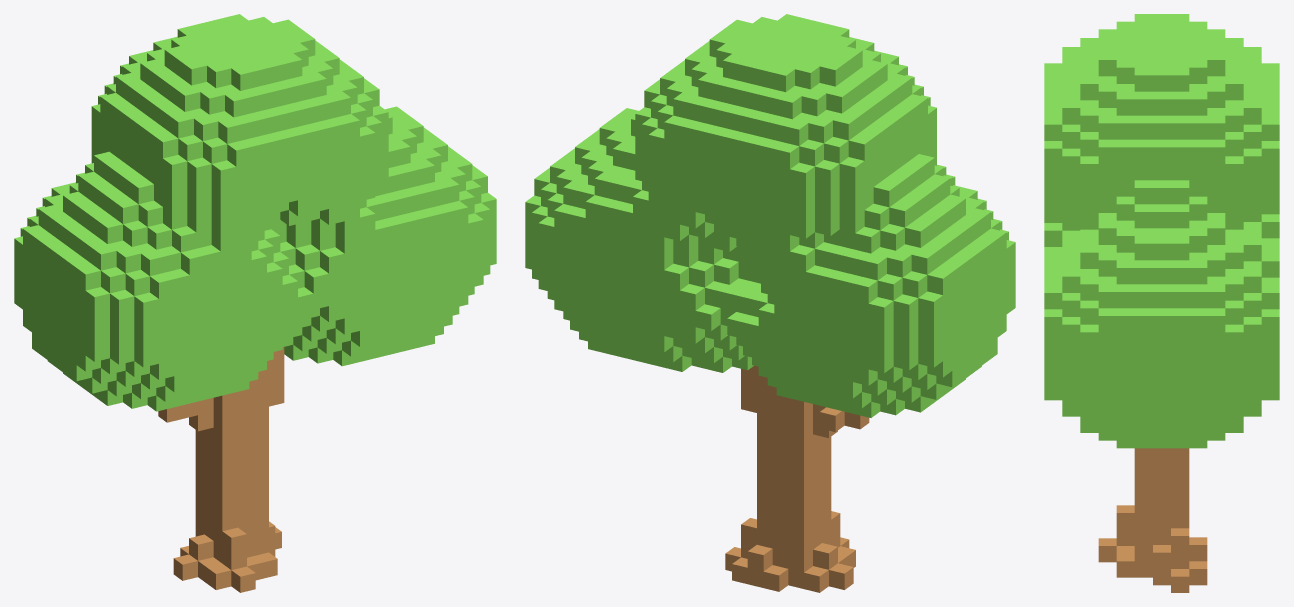
Rendered from Tree_2.obj.
3 views of the same model, side by side, from view 1: azimuth 30°, elevation 25°; view 2: azimuth 150°, elevation 25°; view 3: azimuth 270°, elevation 25° (orthographic).
Bounding box in the file's own units: 2.6 × 3.2 × 1.3.
Materials: 1 (1 with a texture image).
